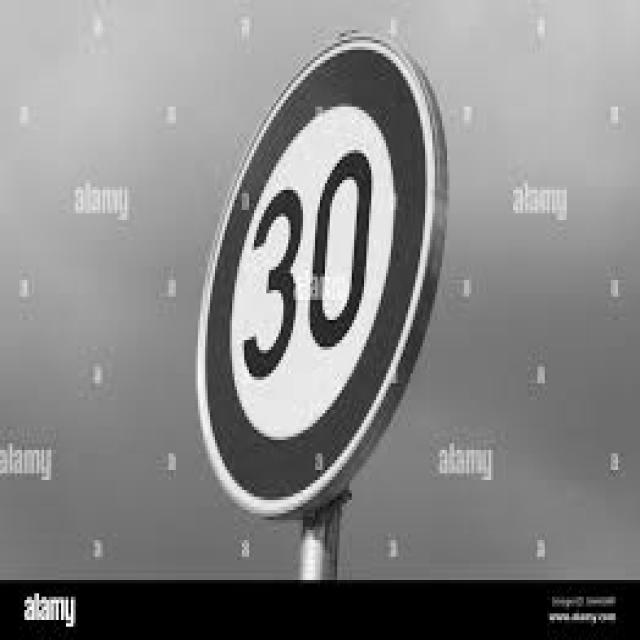speed_30: (191, 34, 438, 519)
